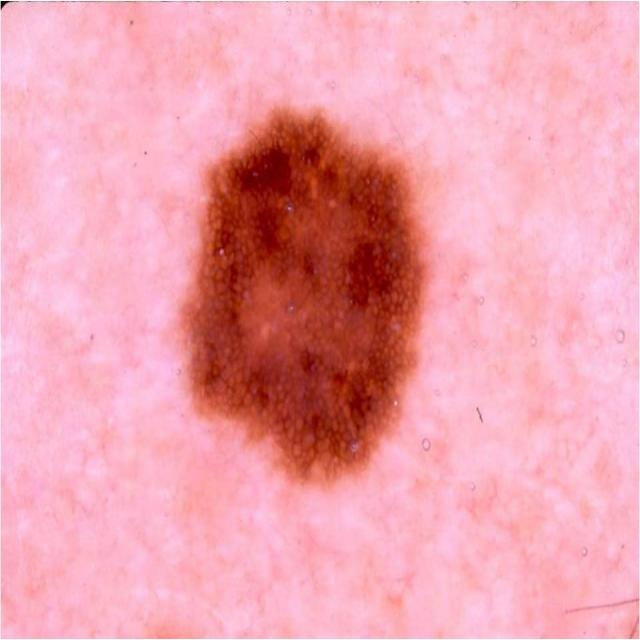Benign: (177, 93, 432, 505)
